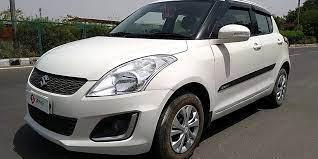Hatchback: (19, 0, 293, 159)
